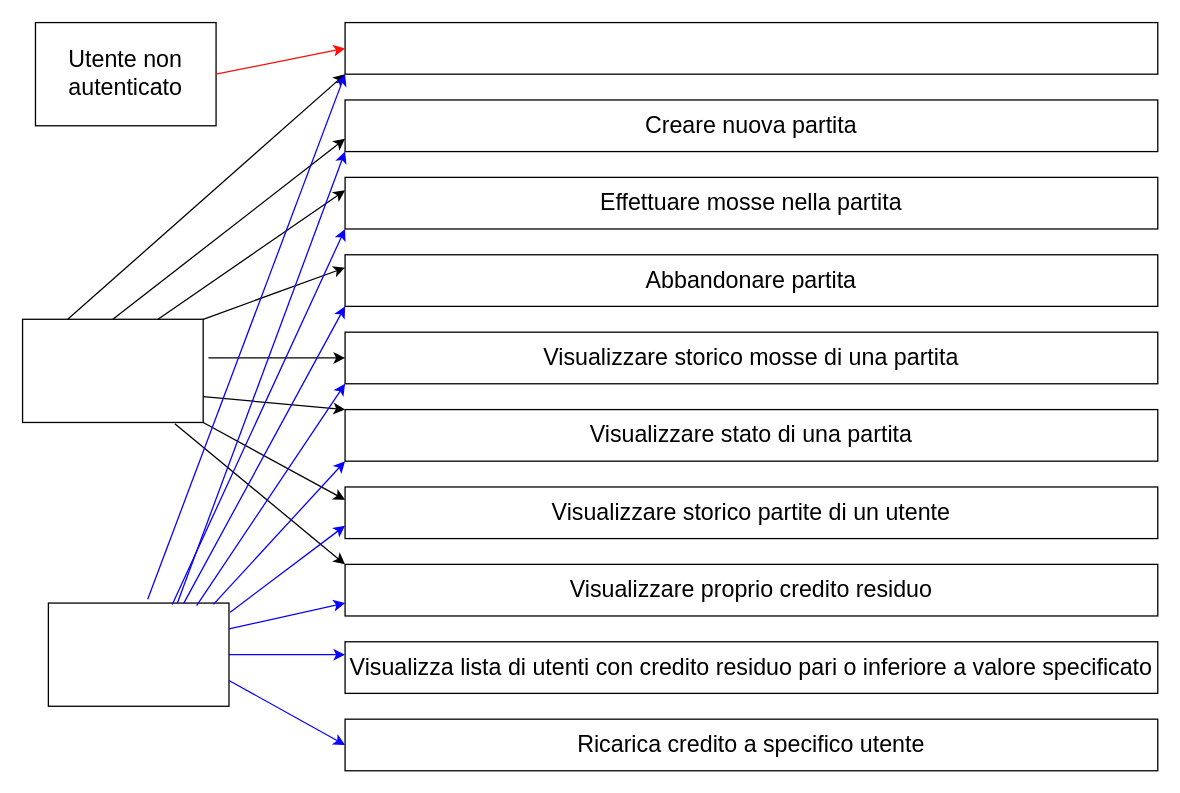
The diagram is 1180 pixels wide and 793 high, and some of its shapes have lost their labels. Each missing label, with the centre of its shape:
"Utente Admin" goes at point 138,654.
"Utente autenticato" goes at point 112,370.
"Visualizzare classifica giocatori" goes at point 751,47.
